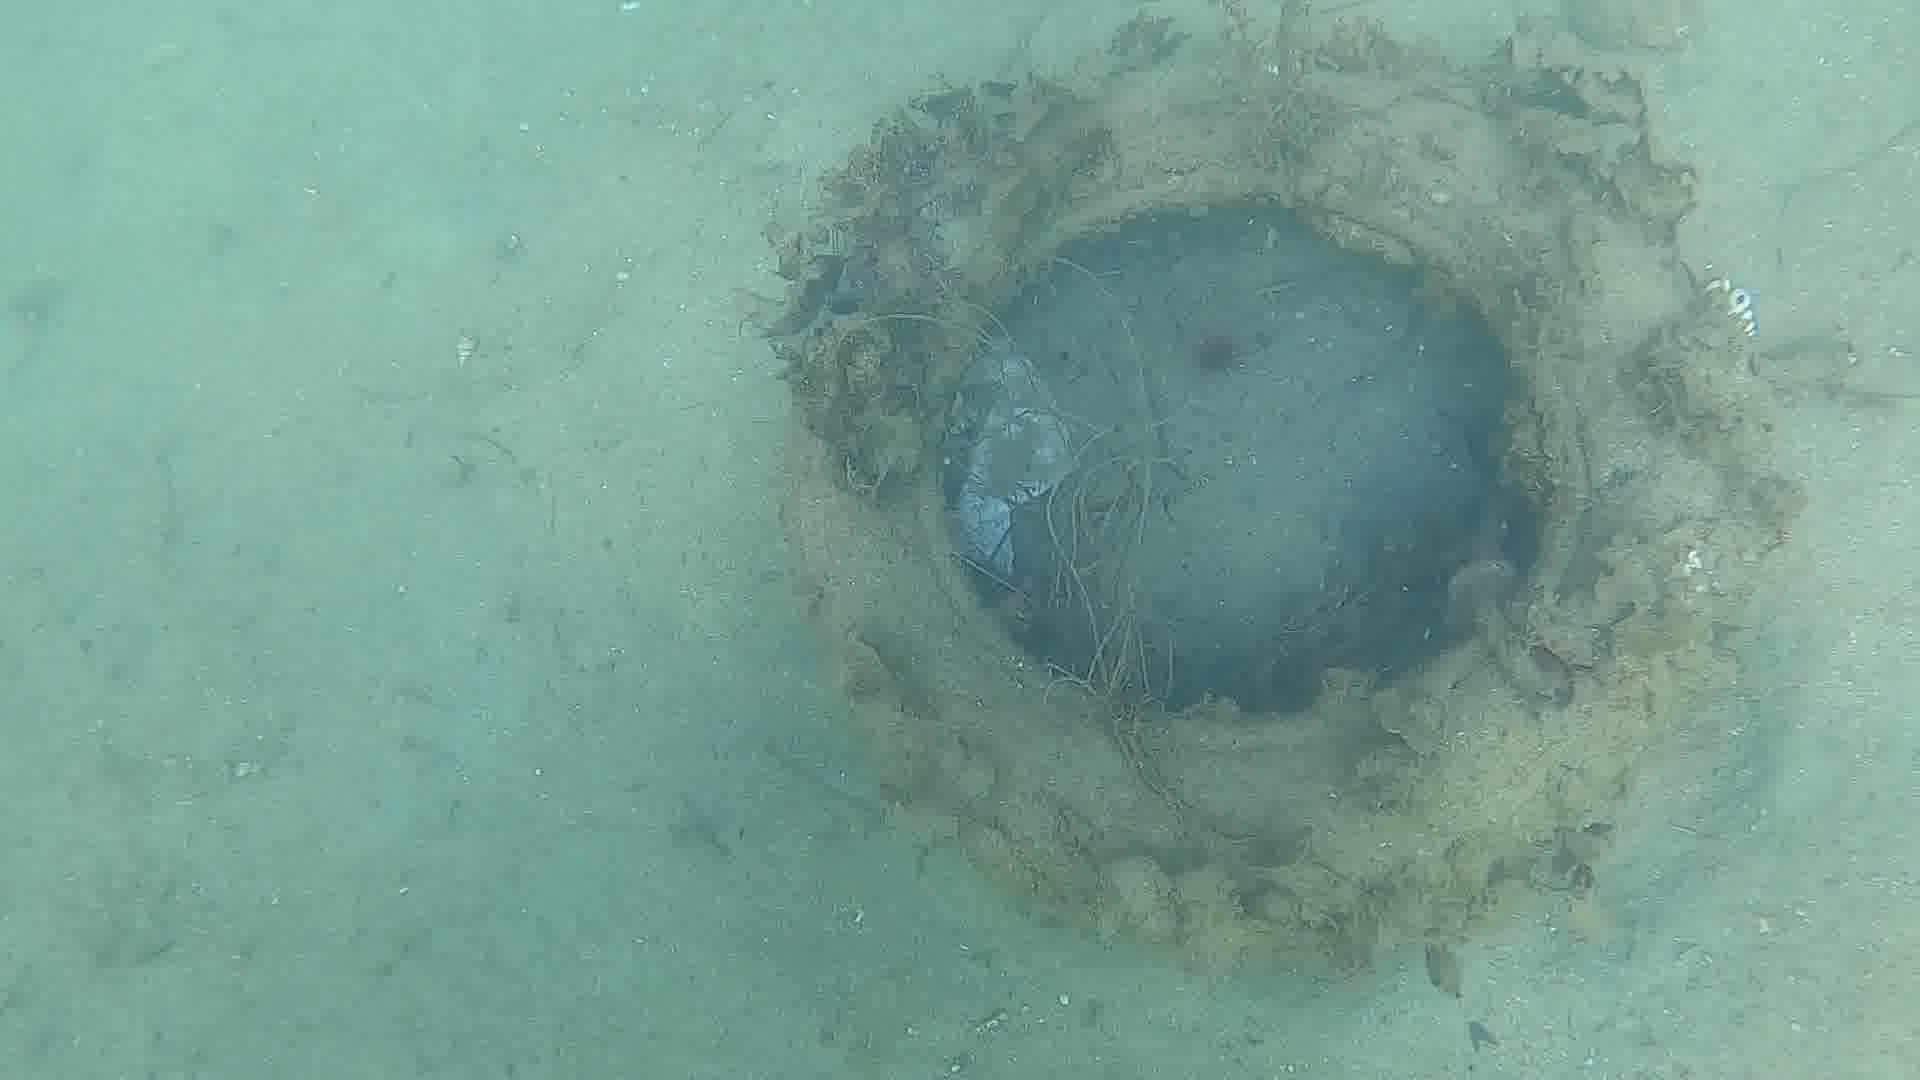tire: (783, 49, 1747, 928)
